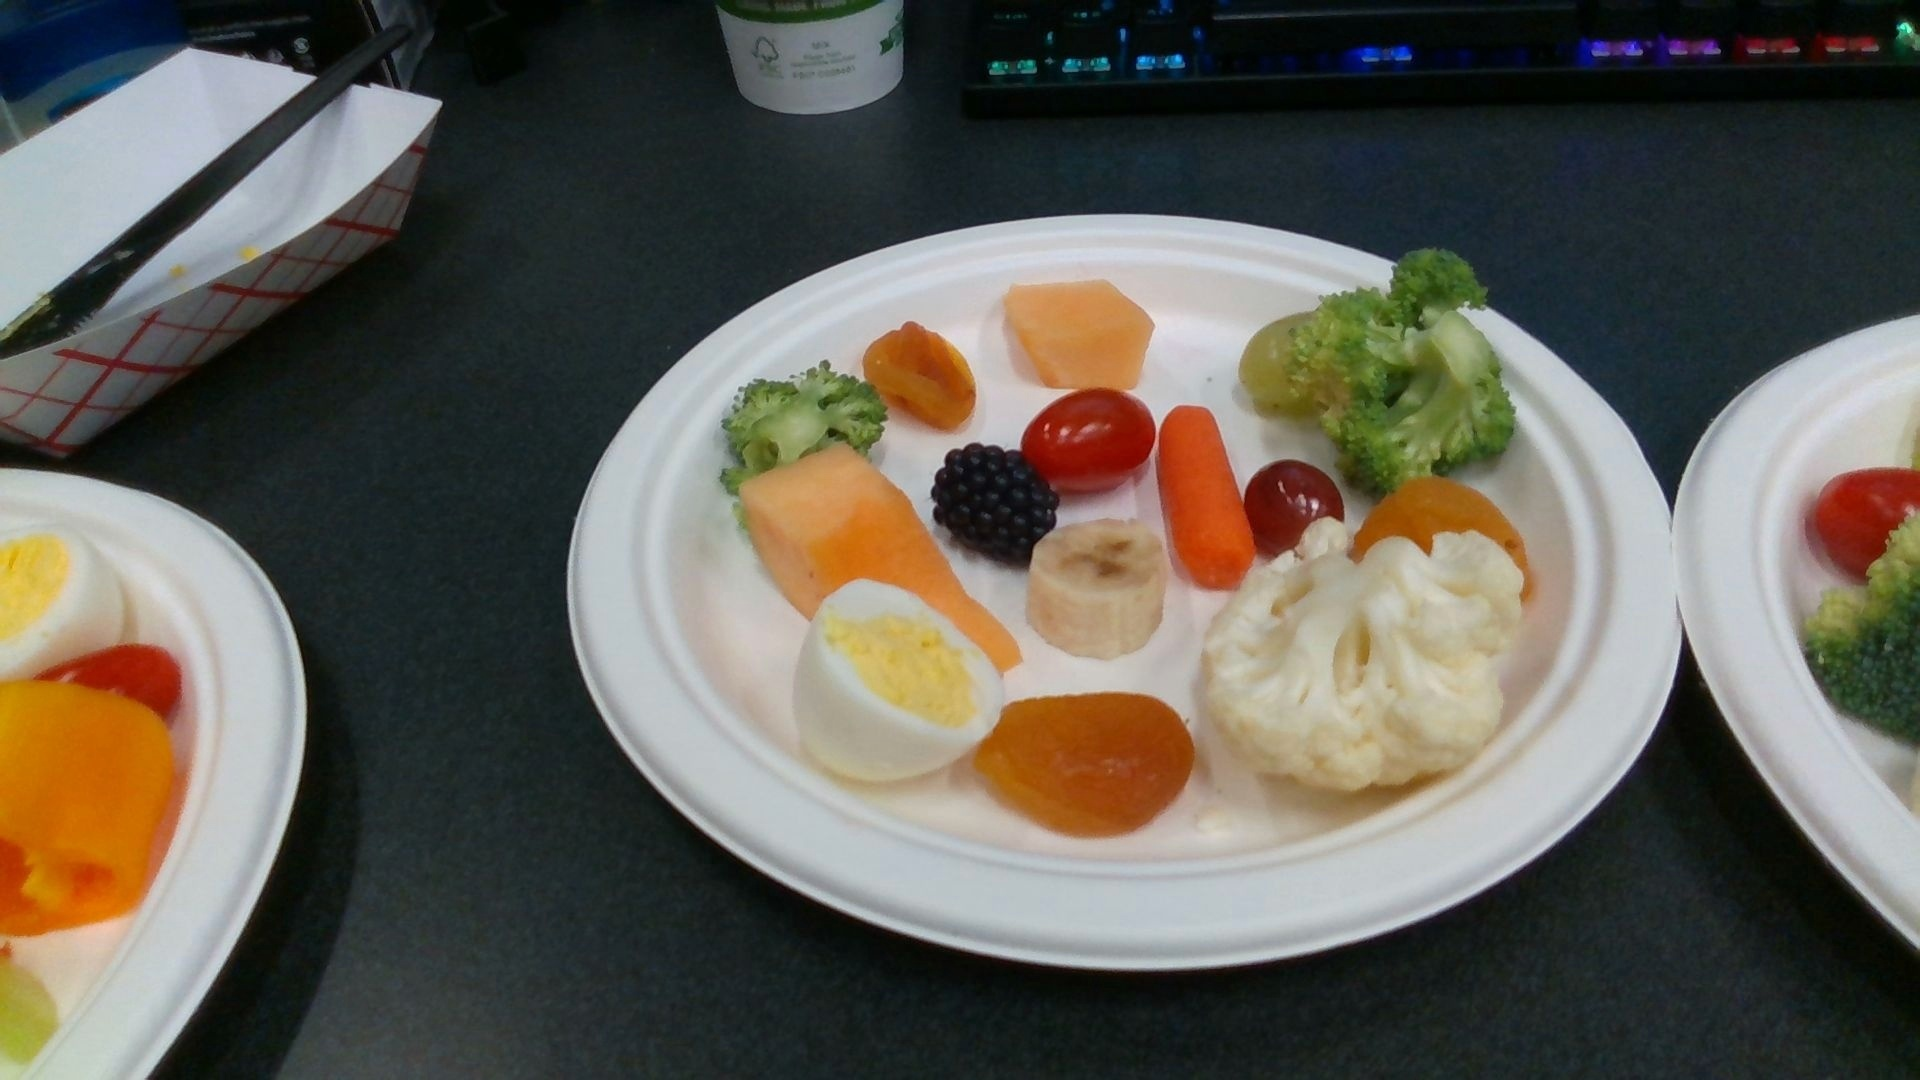apricot: (982, 696, 1189, 833), (1352, 480, 1534, 597), (866, 323, 975, 429)
banana: (1033, 518, 1164, 655)
bell_pepper: (1, 680, 171, 934)
blackberry: (935, 444, 1058, 563)
broccoli: (1292, 251, 1513, 487), (724, 368, 884, 496)
cantalope: (742, 446, 1019, 666), (1007, 281, 1153, 388)
carrot: (1160, 406, 1254, 591)
cauliflower: (1204, 520, 1522, 789)
cherry_tomato: (1025, 392, 1155, 491)
egg: (796, 583, 1004, 781)
grape_green: (1240, 311, 1329, 418)
grape_purple: (1247, 462, 1345, 556)
